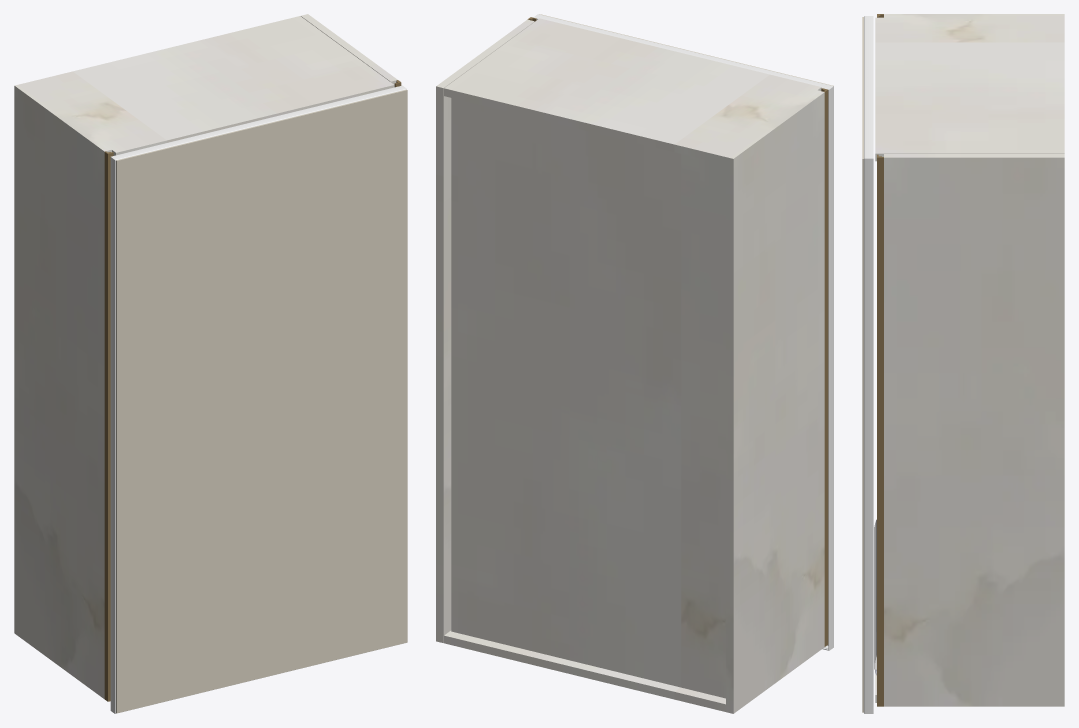
File: WDC2GS1HS_LH (H1085xW600xD336).glb
3 views of the same model, side by side, from view 1: azimuth 30°, elevation 25°; view 2: azimuth 150°, elevation 25°; view 3: azimuth 270°, elevation 25° (orthographic).
Size of what is drawn, in the model's own units: 0.6 by 1.09 by 0.3569.
11 materials, 2 textured.
